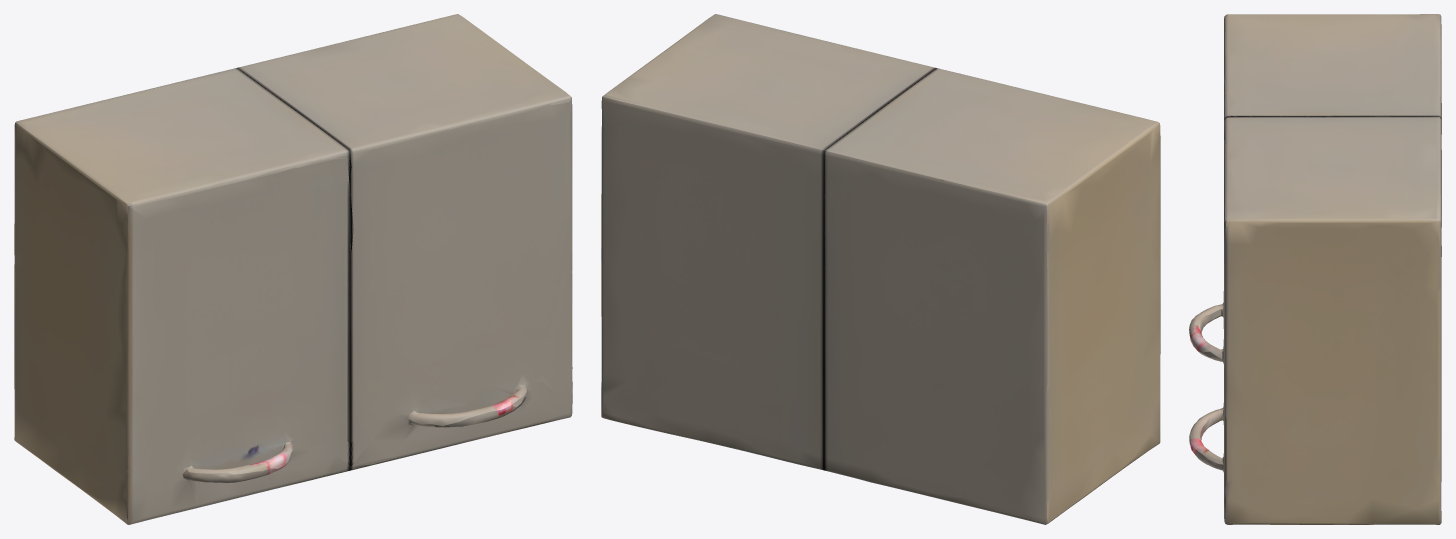
File: PlacardCuisine4_3D_textured.glb
3 renders of one model, left to right at view 1: azimuth 30°, elevation 25°; view 2: azimuth 150°, elevation 25°; view 3: azimuth 270°, elevation 25°, orthographic. The views are drawn at different scales.
Parts seen in each view (by area): view 1: temp_mesh.ply; view 2: temp_mesh.ply; view 3: temp_mesh.ply.
Boxes of the visible parts, bbox=[...] form: temp_mesh.ply: bbox=[14, 14, 572, 524]; temp_mesh.ply: bbox=[601, 14, 1160, 524]; temp_mesh.ply: bbox=[1189, 14, 1441, 524].
Bounding box in the file's own units: 1.97 × 1.36 × 1.02.
Materials: 1 (1 with a texture image).
